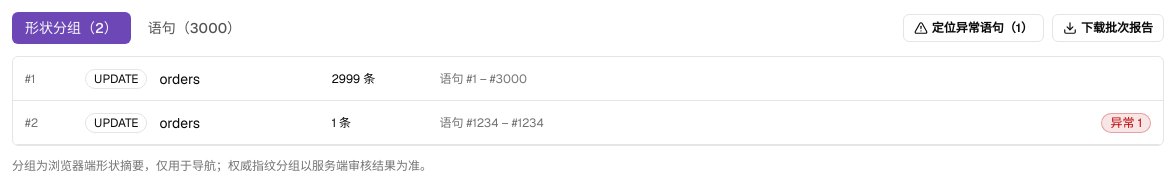
StatementBrowser › filters statements by a selected shape group
Click the 2nd button with test id "bulk-group-row". click: coordinates (116, 122)
box: [13, 101, 1163, 145]
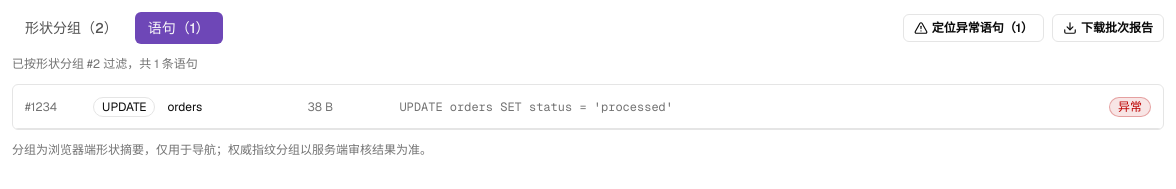
Result: the text "已按形状分组 #2 过滤，共 1 条语句" is shown at [12, 56, 198, 72]
